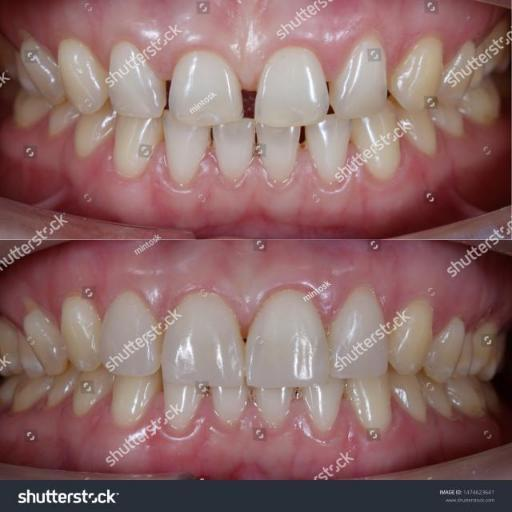spaced: (238, 85, 260, 117), (160, 76, 174, 116), (297, 121, 309, 155)
